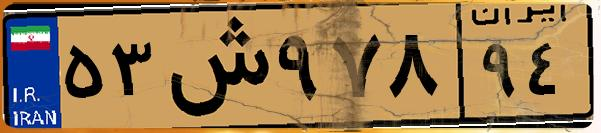3: (110, 28, 158, 98)
4: (525, 38, 570, 115)
5: (57, 26, 110, 100)
7: (330, 28, 385, 110)
8: (385, 28, 445, 110)
9: (270, 28, 330, 110), (475, 38, 525, 113)
ش: (158, 12, 270, 120)
